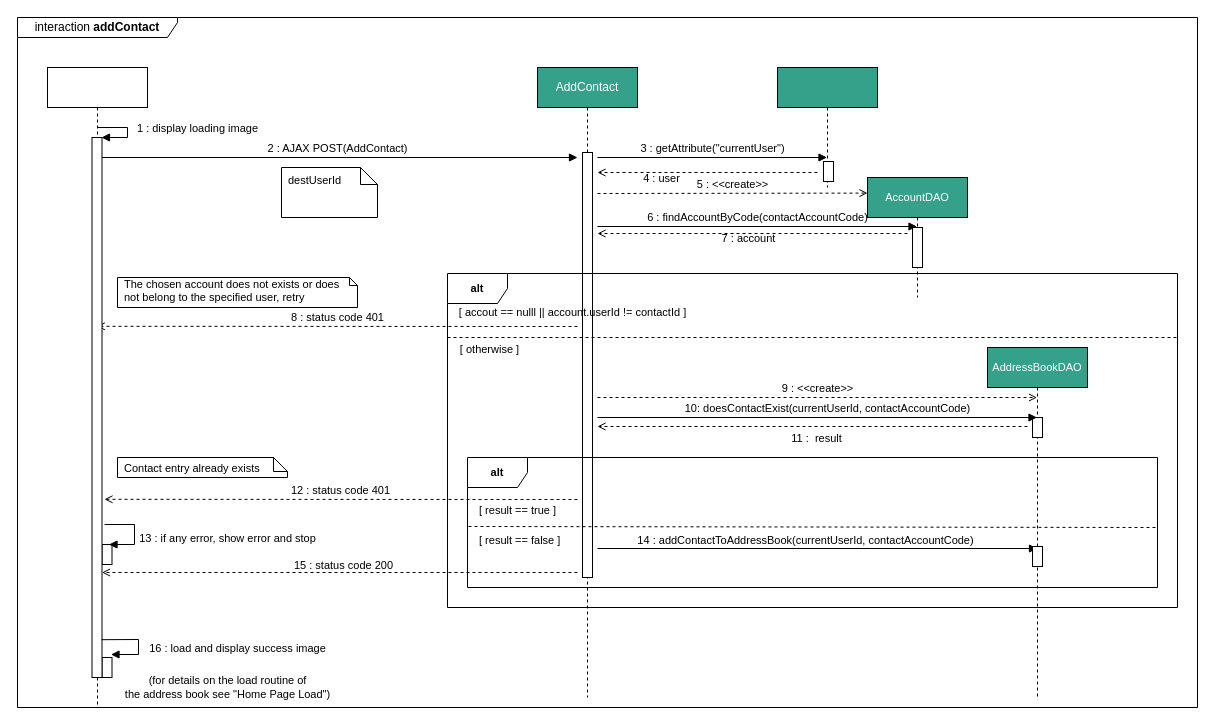
Image size: 1215x725. Some labels were removed from this diagram. Here are the shapes that lost their labels. From the top down, the box of each, then its label:
(776, 66, 878, 188): Session
(280, 166, 378, 218): destAccountCode
(46, 66, 148, 708): TransferResult
